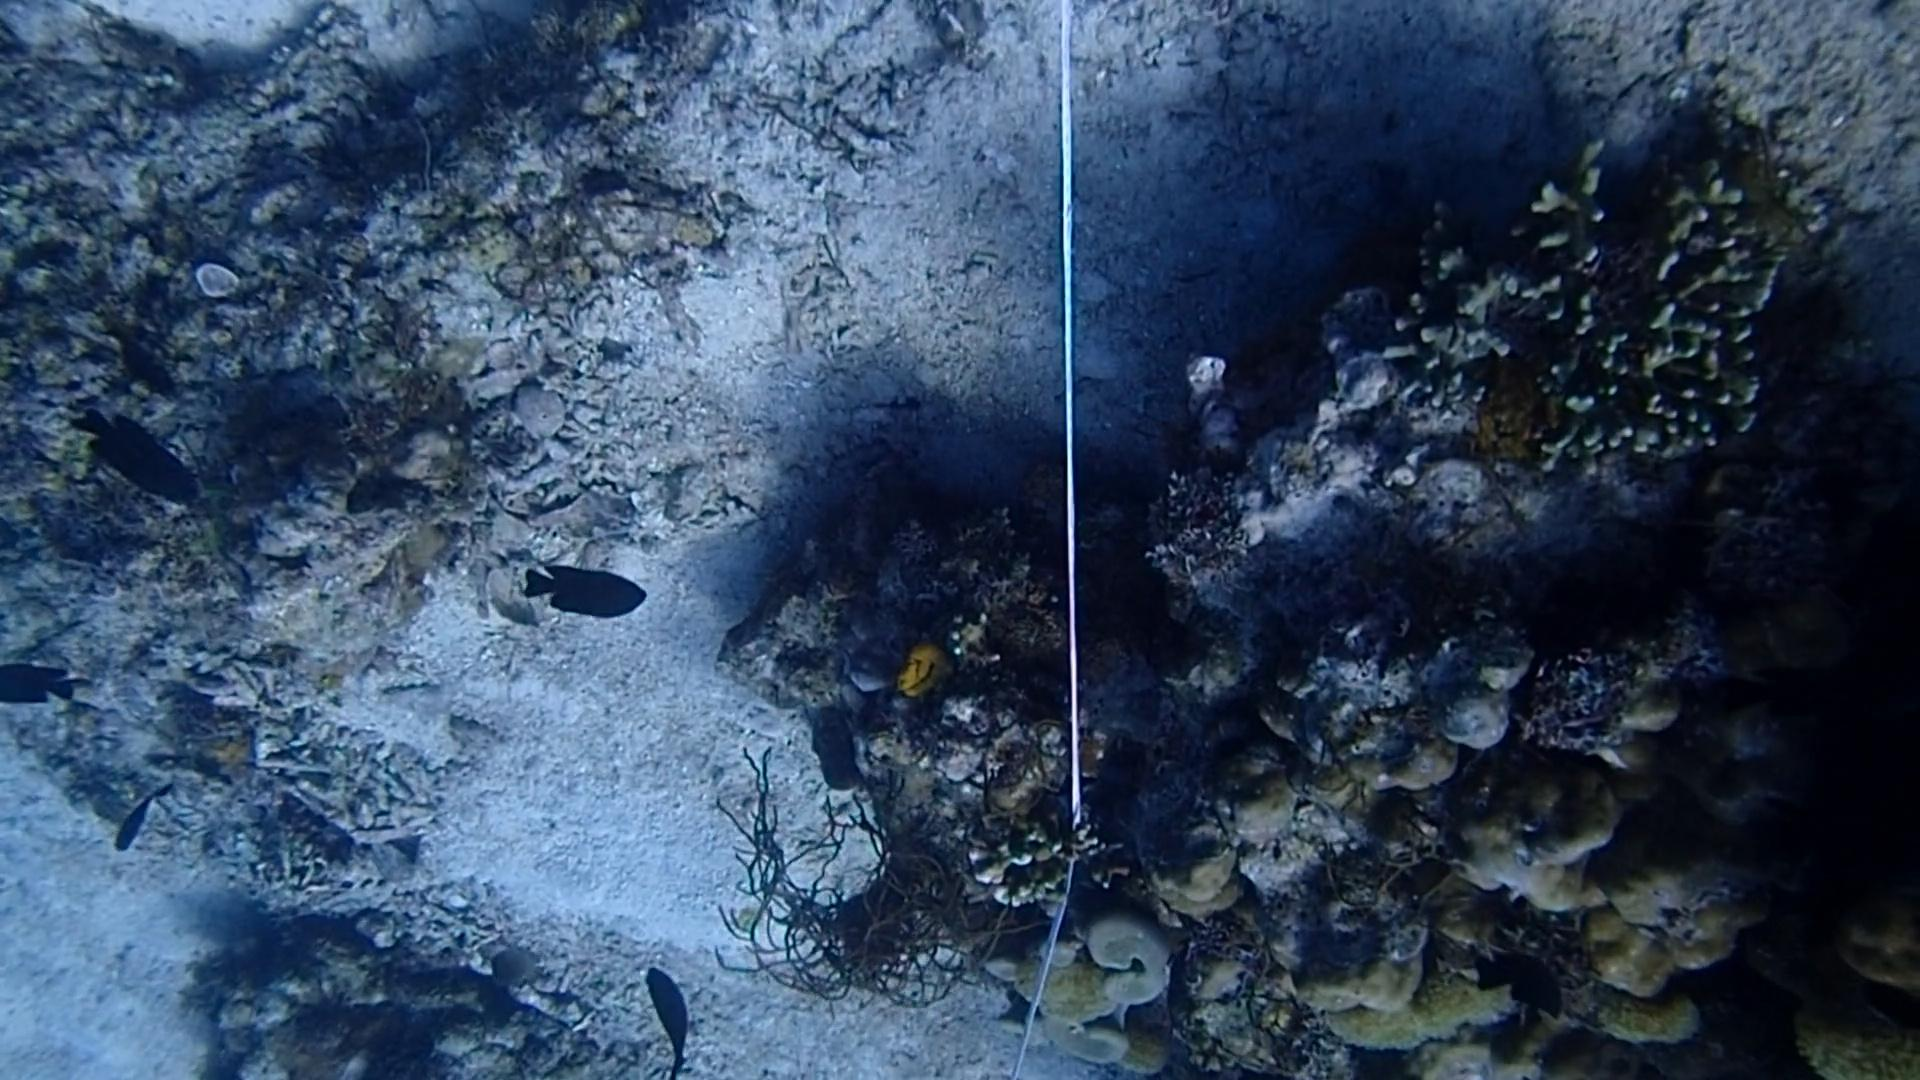Dark Fish: (66, 406, 211, 520), (78, 306, 208, 419), (505, 542, 658, 638), (616, 949, 715, 1080), (0, 657, 90, 717), (105, 777, 166, 864)
Light Fish: (472, 939, 553, 1001)
